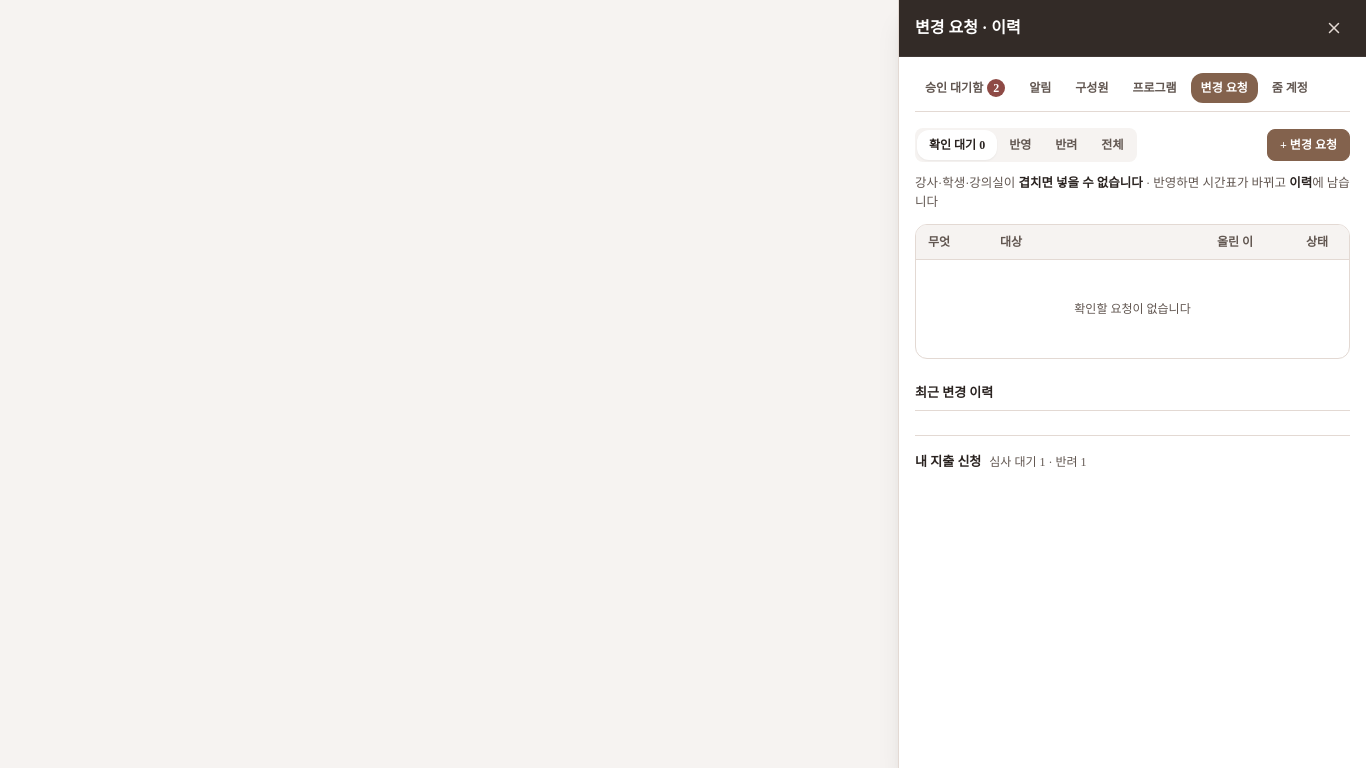
Test: 공용 서랍의 제어형 선택 › 타임아웃은 실패 확정으로 말하지 않고 접수 여부 미확인과 같은 요청 재확인을 안내한다
Click the button "+ 변경 요청" at x=1308, y=145, box [1267,129,1350,161]
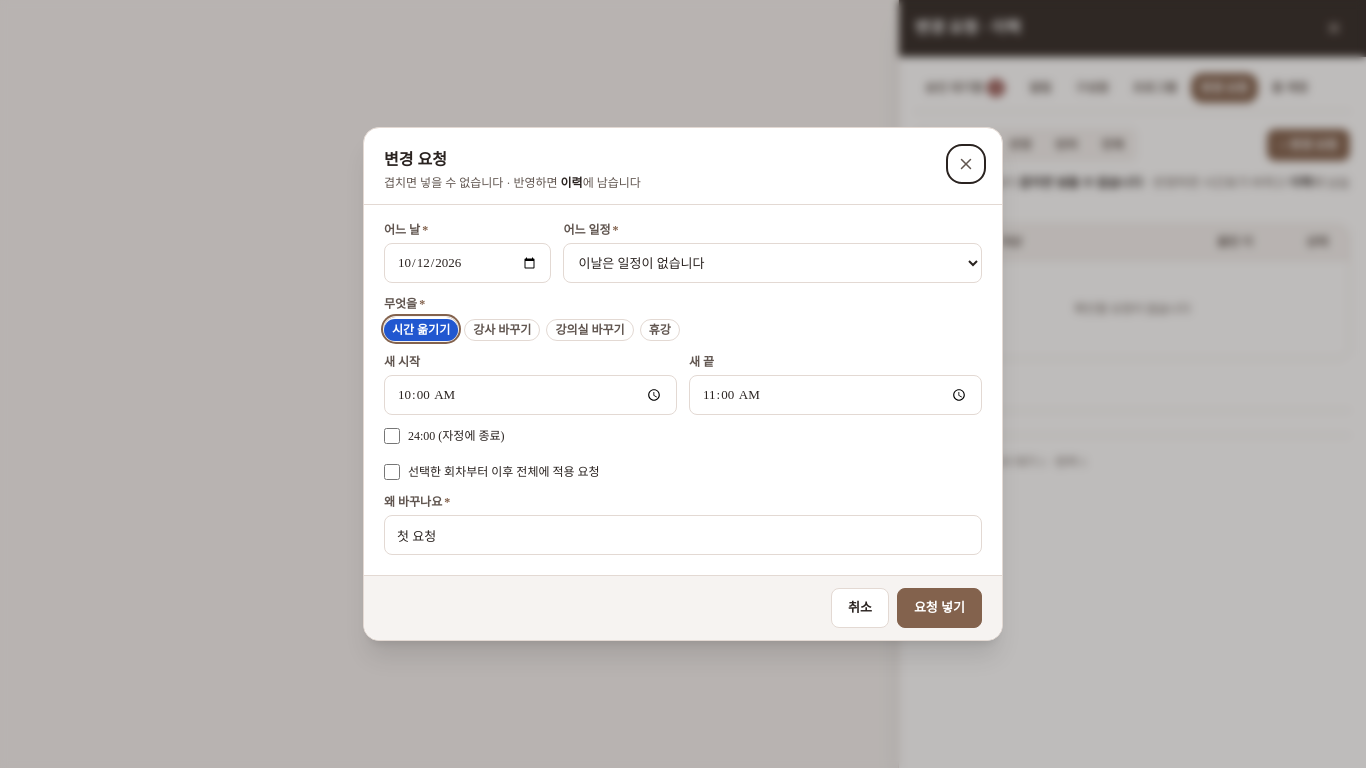
Check: the button "요청 넣기" is enabled
Click the button "요청 넣기" at x=939, y=608, box [897,588,982,628]
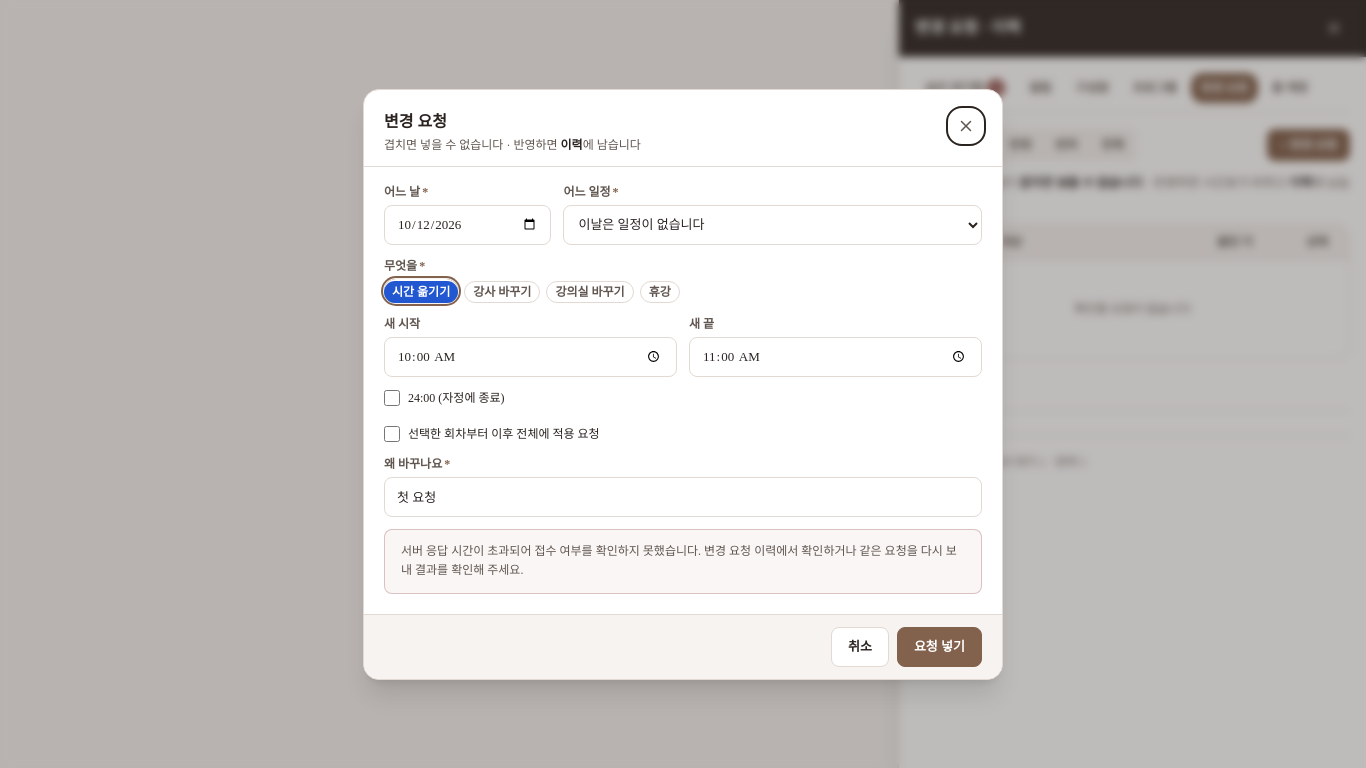
Check: the text "같은 요청을 다시 보내" is shown, box [401,544,957,577]
